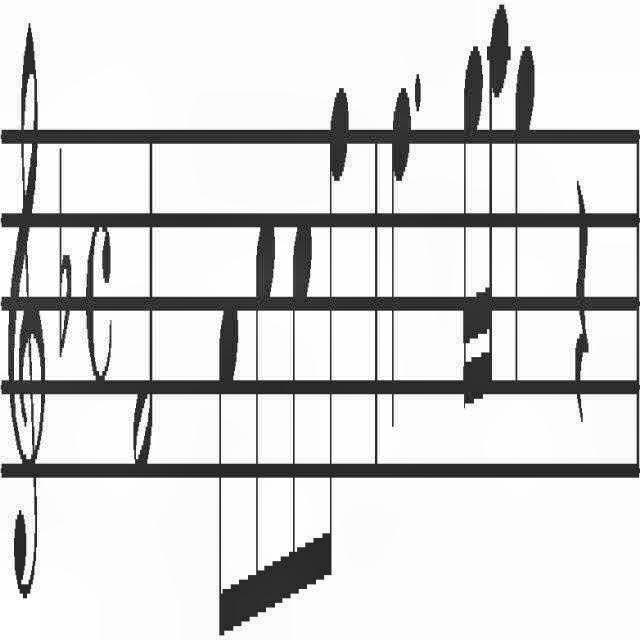Bass-clef: (8, 16, 48, 616)
Bemol: (58, 136, 72, 364)
Eighth-note: (317, 84, 348, 606), (283, 215, 313, 618), (250, 210, 276, 630), (219, 288, 241, 640)
Half-note: (131, 118, 153, 478)
Quarter-note: (514, 47, 538, 409), (391, 84, 413, 436)
Quarter-rest: (573, 178, 591, 430)
Sixteenth-note: (483, 0, 511, 416), (464, 39, 484, 419)
